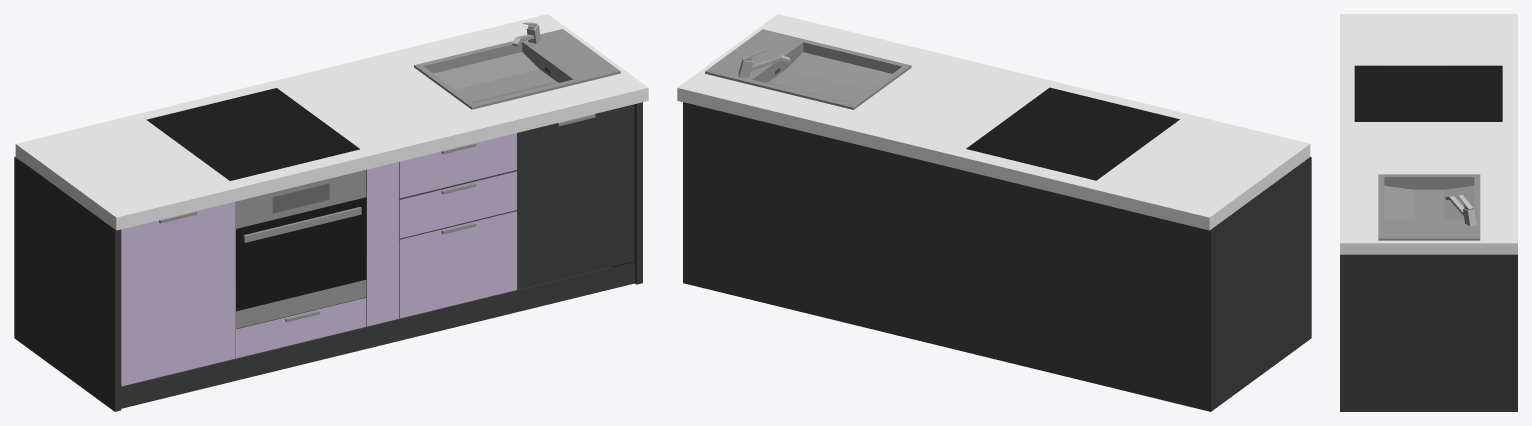
The model's file is SM_kitchen_table_001.FBX.
The picture shows the model from 3 angles, left to right: view 1: azimuth 30°, elevation 25°; view 2: azimuth 150°, elevation 25°; view 3: azimuth 270°, elevation 25°; orthographic projection. The views are drawn at different scales.
Parts seen in each view (by area): view 1: SM_kitchen_table_001; view 2: SM_kitchen_table_001; view 3: SM_kitchen_table_001.
Part boxes in pixels (x1,y1,x2,y2): SM_kitchen_table_001: [14, 14, 648, 411]; SM_kitchen_table_001: [677, 14, 1311, 411]; SM_kitchen_table_001: [1340, 14, 1517, 411].
Size of the model in its own units: 261 by 85.33 by 104.
